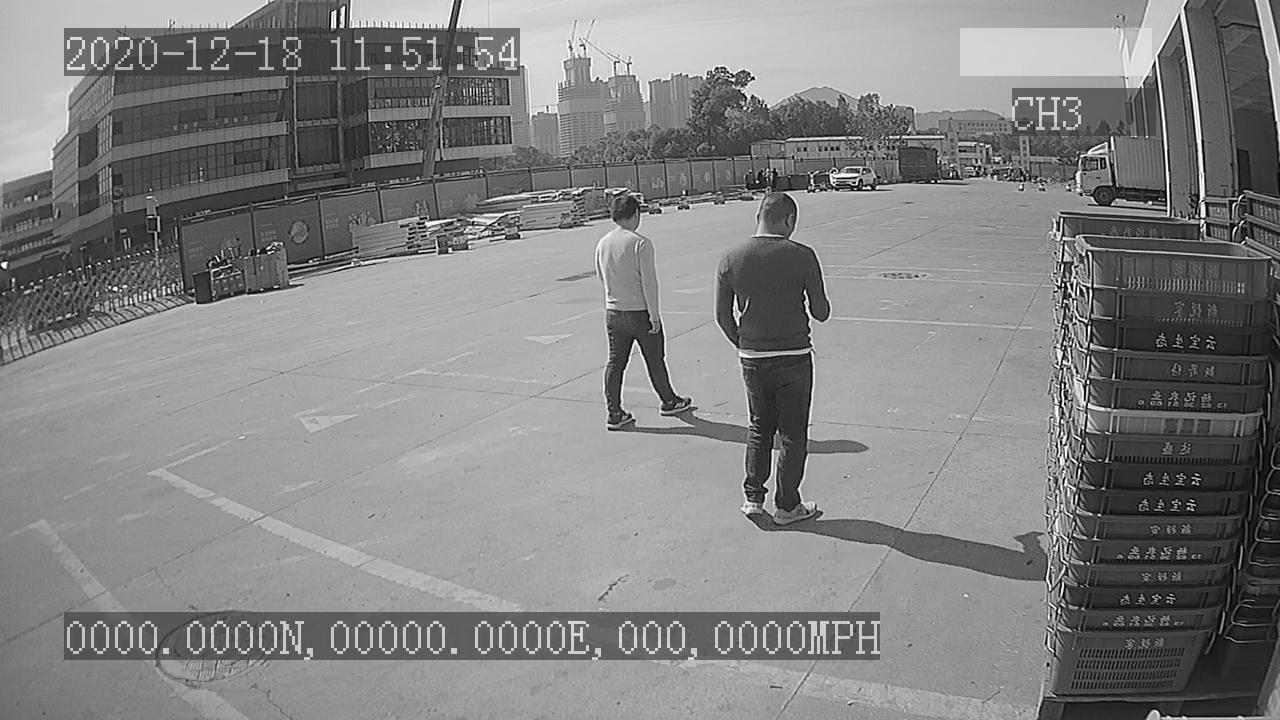person: (708, 186, 842, 531), (583, 188, 699, 440)
